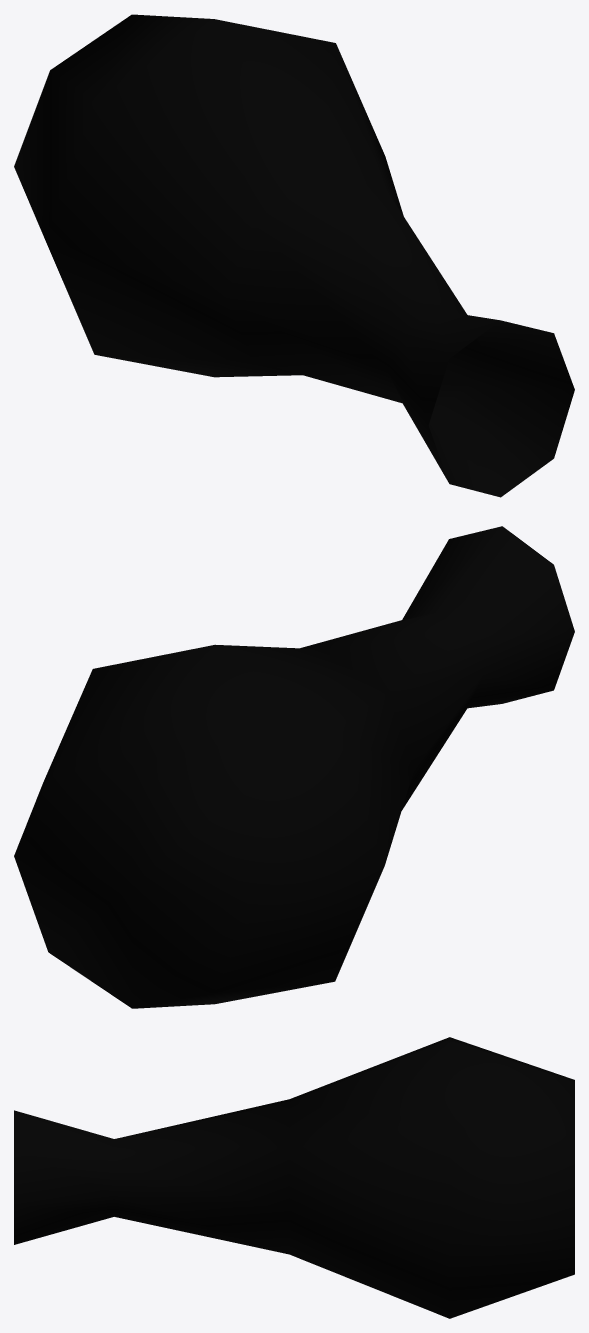
The picture shows the model from 3 angles, top to bottom: view 1: azimuth 30°, elevation 25°; view 2: azimuth 150°, elevation 25°; view 3: azimuth 270°, elevation 25°; orthographic projection. The views are drawn at different scales.
Parts seen in each view (by area): view 1: T1L3M002_36; view 2: T1L3M002_36; view 3: T1L3M002_36.
Boxes of the visible parts, x1=… form: T1L3M002_36: x1=14, y1=14, x2=574, y2=497; T1L3M002_36: x1=14, y1=526, x2=574, y2=1008; T1L3M002_36: x1=14, y1=1037, x2=574, y2=1318.
Size of the model in its own units: 0.1748 by 0.1758 by 0.3281.
